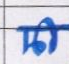i_matra: (40, 16, 56, 53)
